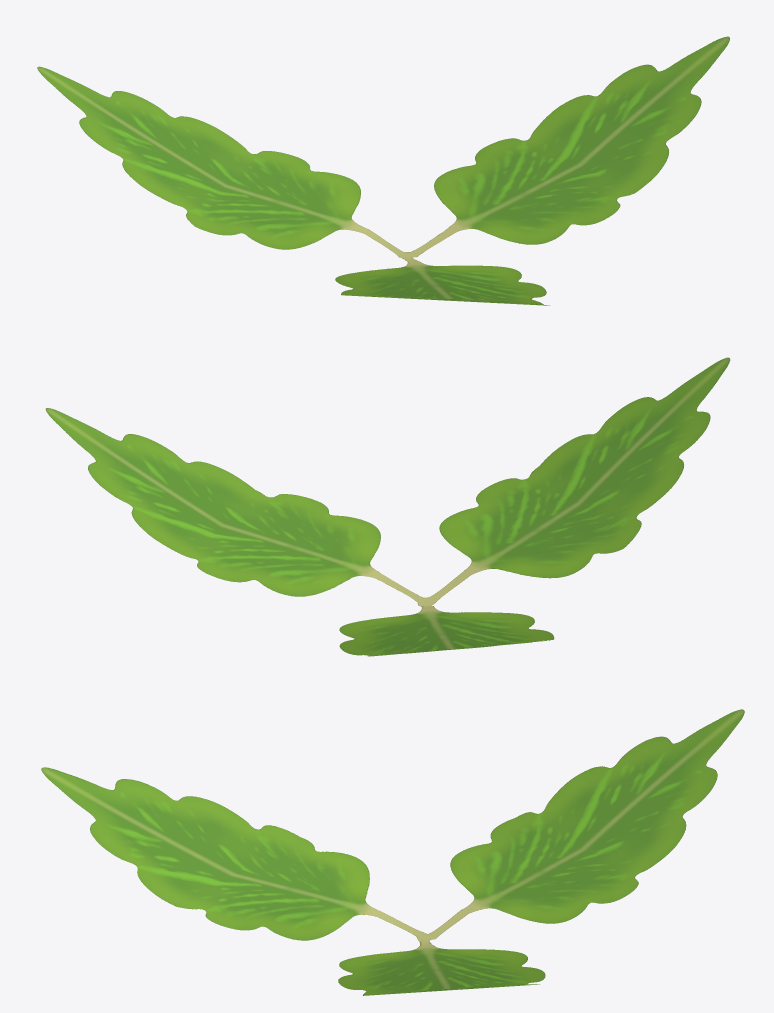
Rendered from SM_Sprout_One_LODS.fbx.
3 renders of one model, top to bottom at view 1: azimuth 30°, elevation 25°; view 2: azimuth 150°, elevation 25°; view 3: azimuth 270°, elevation 25°, orthographic. The views are drawn at different scales.
Visible parts, largest first — view 1: polySurface7; view 2: polySurface7; view 3: polySurface7.
Boxes of the visible parts, x1,y1,x2,y2 form: polySurface7: (37,36,729,305); polySurface7: (45,357,730,656); polySurface7: (41,709,744,995).
Bounding box in the file's own units: 63.39 × 13.71 × 67.91.
